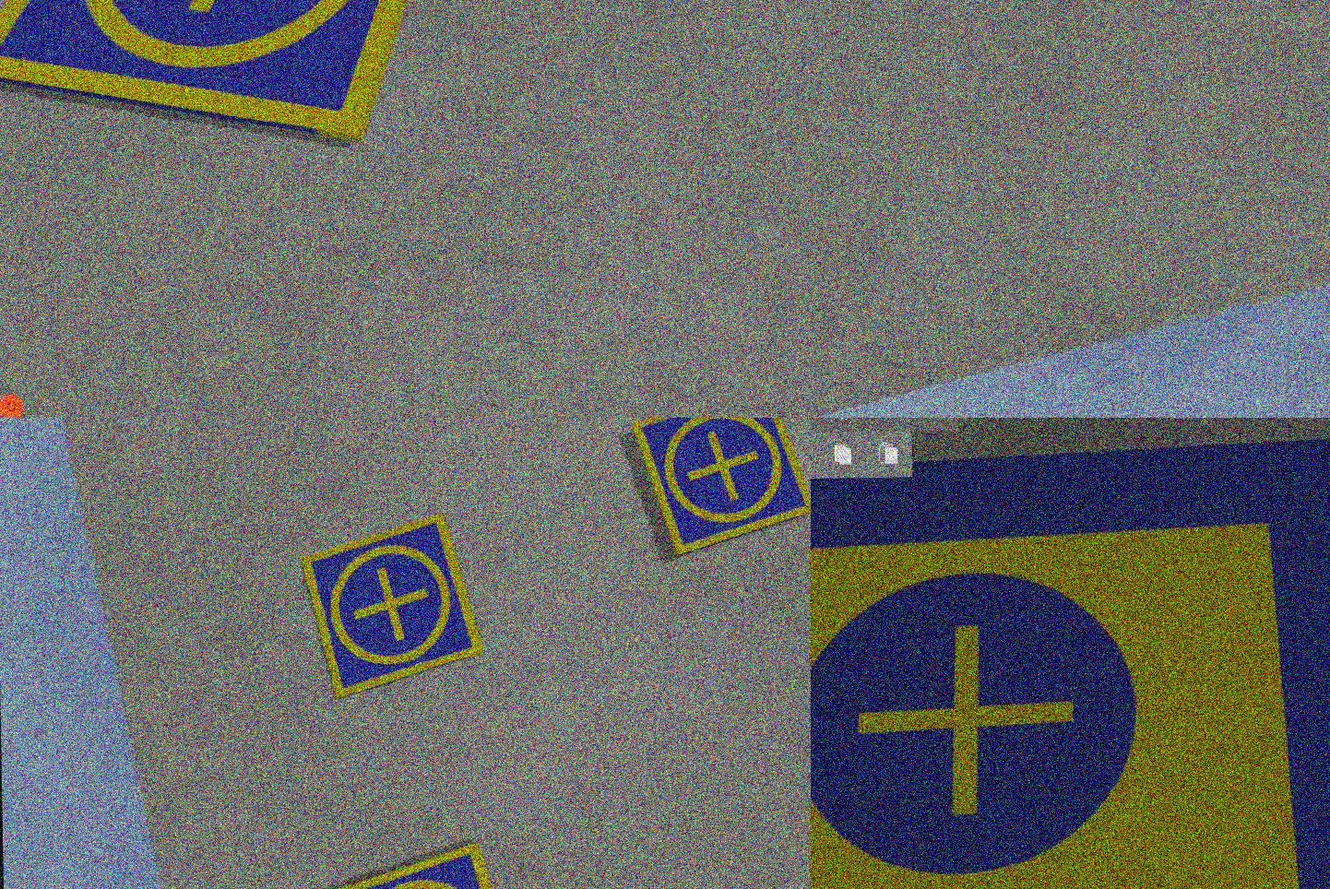large_base: (812, 435, 1330, 889)
small_base: (1, 1, 473, 158), (303, 516, 483, 702), (635, 419, 812, 553), (327, 842, 523, 889)
